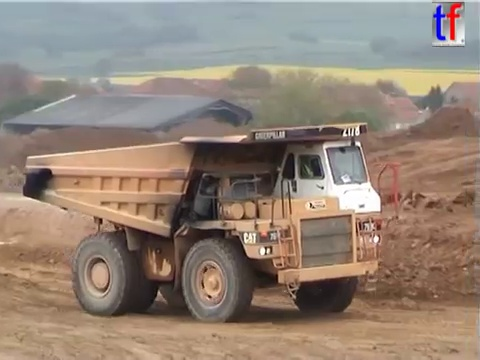truck: (19, 118, 403, 325)
